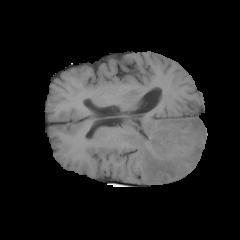glioma: (132, 117, 205, 181)
